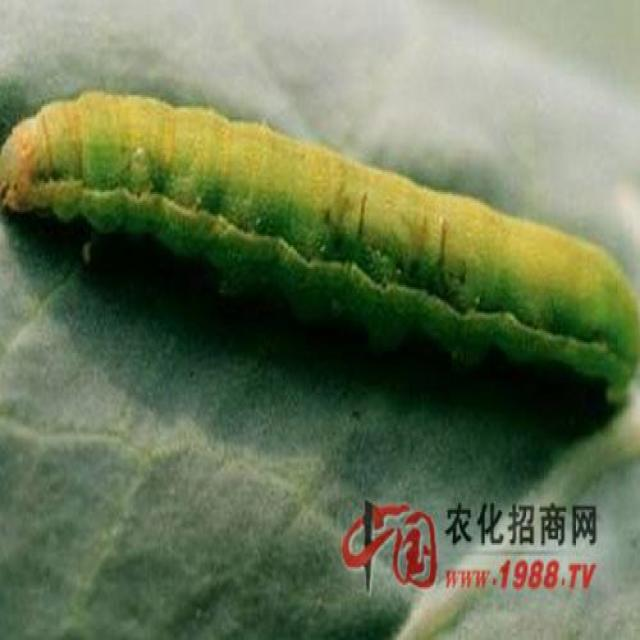BeetArmyWorm-Larva-: (1, 87, 639, 411)
